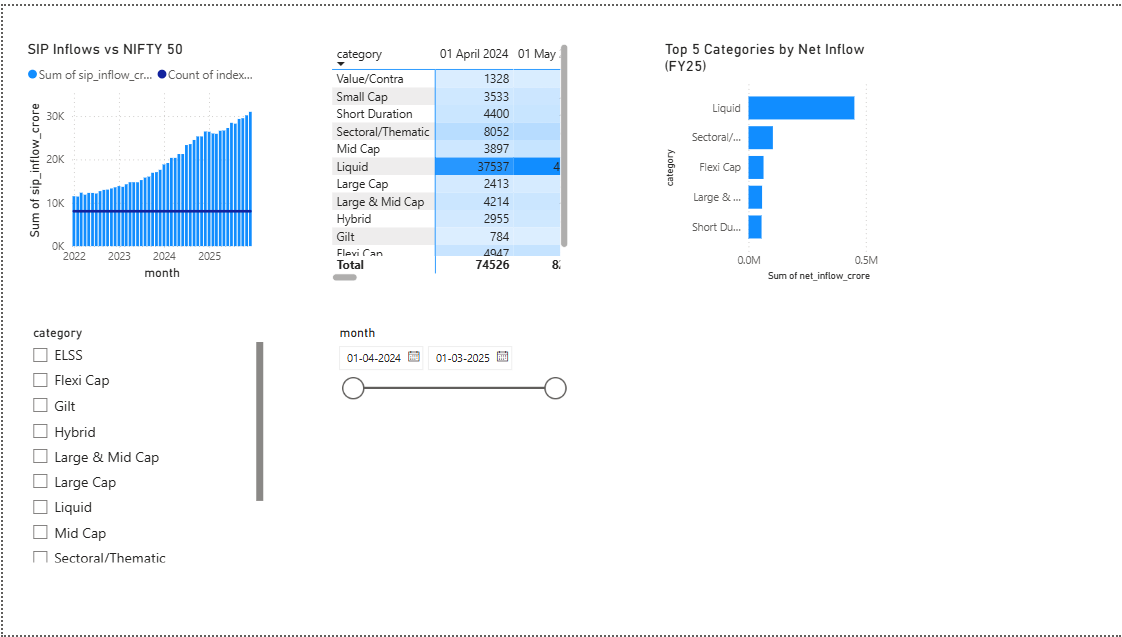

Layout of this report page (visuals, bound fields, positions):
{"tool":"powerbi","page":{"name":"SIP & Market Trends","canvas":[1280,720],"ordinal":3},"visuals":[{"type":"lineClusteredColumnComboChart","title":"SIP Inflows vs NIFTY 50","fields":{"Category":["04_monthly_sip_inflows.month"],"Y":["Sum(04_monthly_sip_inflows.sip_inflow_crore)"],"Y2":["CountNonNull(10_benchmark_indices.index_name)"]},"box":[22.8,38,279.6,279.6],"z":0},{"type":"pivotTable","fields":{"Rows":["05_category_inflows.category"],"Columns":["05_category_inflows.month"],"Values":["Sum(05_category_inflows.net_inflow_crore)"]},"box":[371.9,38,279.6,280.8],"z":1000},{"type":"clusteredBarChart","title":"Top 5 Categories by Net Inflow (FY25)","fields":{"Category":["05_category_inflows.category"],"Y":["Sum(05_category_inflows.net_inflow_crore)"]},"box":[750.9,37.9,280.6,280.6],"z":2000},{"type":"slicer","fields":{"Values":["05_category_inflows.category"]},"box":[21.2,359.5,280.6,280.6],"z":3000},{"type":"slicer","fields":{"Values":["05_category_inflows.month"]},"box":[371.7,359.5,280.6,280.6],"z":4000}]}

Visuals, with their boxes in screenshot pixels (x1, y1, x2, y2), scaled from the page's 1280x720 canvas onto the 1122x637 screenshot:
"SIP Inflows vs NIFTY 50" lineClusteredColumnComboChart: detection(20, 34, 265, 281)
pivotTable - 05_category_inflows.category x 05_category_inflows.month: detection(326, 34, 571, 282)
"Top 5 Categories by Net Inflow (FY25)" clusteredBarChart: detection(658, 34, 904, 282)
slicer - 05_category_inflows.category: detection(19, 318, 265, 566)
slicer - 05_category_inflows.month: detection(326, 318, 572, 566)
